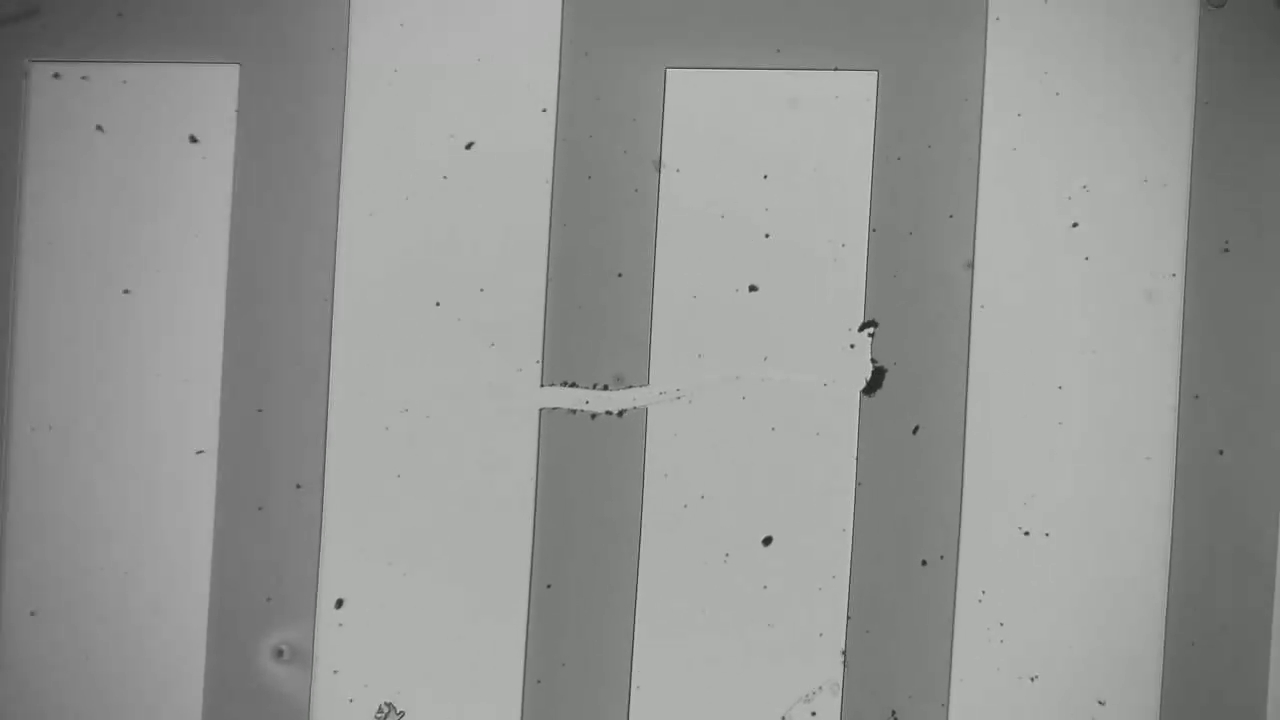Short_circuit: (518, 366, 681, 434)
